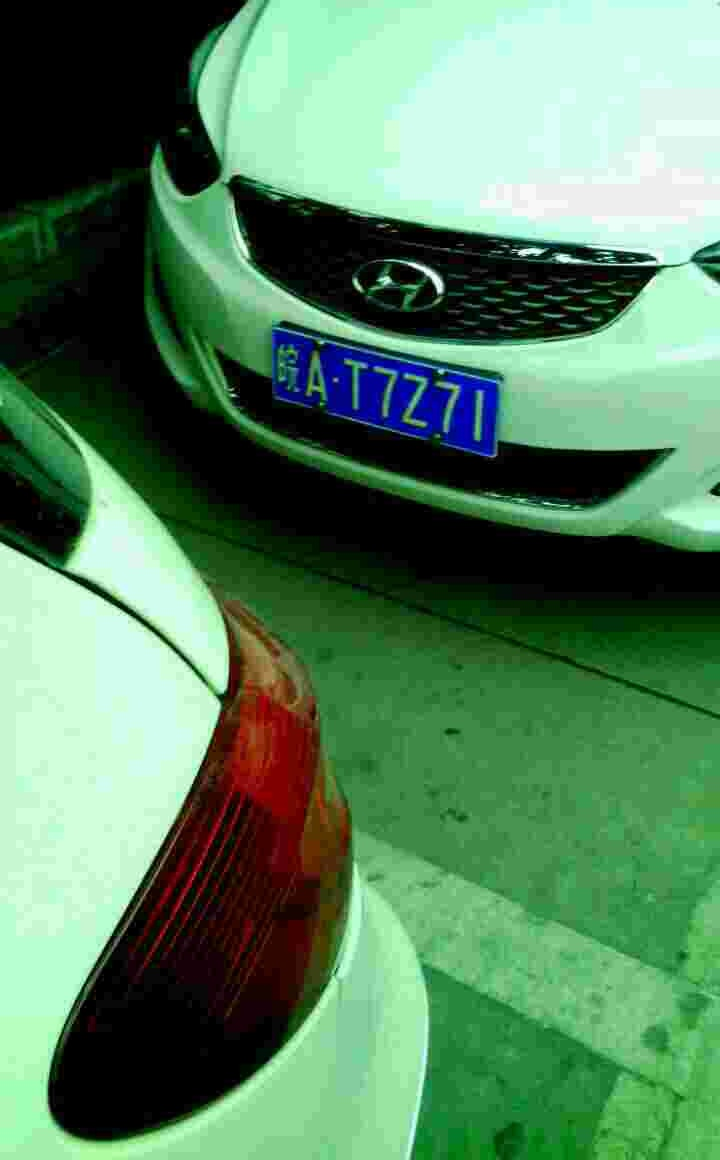license_plate: (262, 329, 499, 459)
